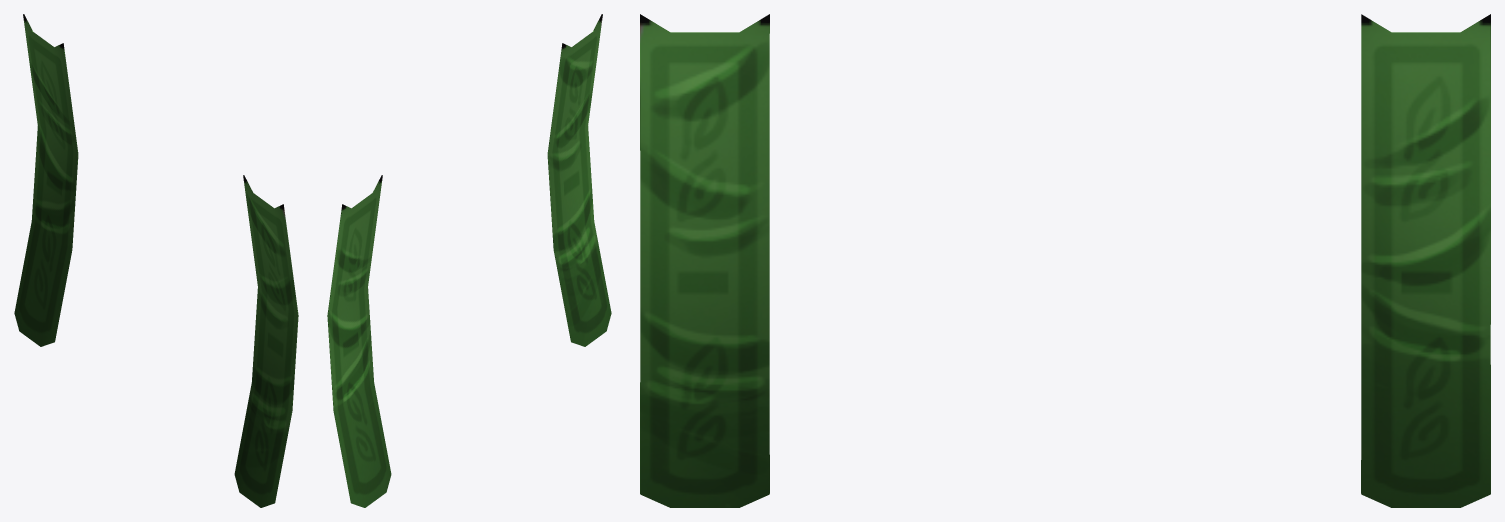
The model's file is banners.FBX.
The picture shows the model from 3 angles, left to right: view 1: azimuth 30°, elevation 25°; view 2: azimuth 150°, elevation 25°; view 3: azimuth 270°, elevation 25°; orthographic projection. The views are drawn at different scales.
Visible parts, largest first — view 1: Object005; view 2: Object005; view 3: Object005.
Part boxes in pixels (x1=…): Object005: x1=14, y1=14, x2=298, y2=507; Object005: x1=327, y1=14, x2=611, y2=507; Object005: x1=640, y1=14, x2=1490, y2=507.
Bounding box in the file's own units: 26.42 × 269 × 412.
